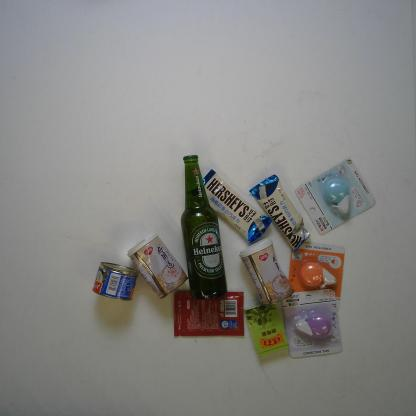Alcohol: (178, 154, 230, 300)
Candy: (241, 300, 293, 359)
Canned Food: (124, 230, 192, 301), (236, 235, 294, 306), (90, 260, 140, 302)
Chocolate: (190, 166, 275, 248), (248, 174, 312, 252)
Seasoner: (172, 286, 247, 339)
Stationery: (297, 158, 375, 234), (281, 240, 347, 313), (280, 287, 343, 359)
